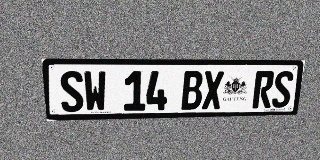1: (124, 71, 145, 111)
4: (146, 71, 168, 111)
B: (181, 71, 203, 110)
R: (252, 71, 275, 108)
S: (59, 71, 84, 112), (271, 71, 294, 108)
W: (83, 71, 107, 112)
X: (202, 71, 224, 109)
